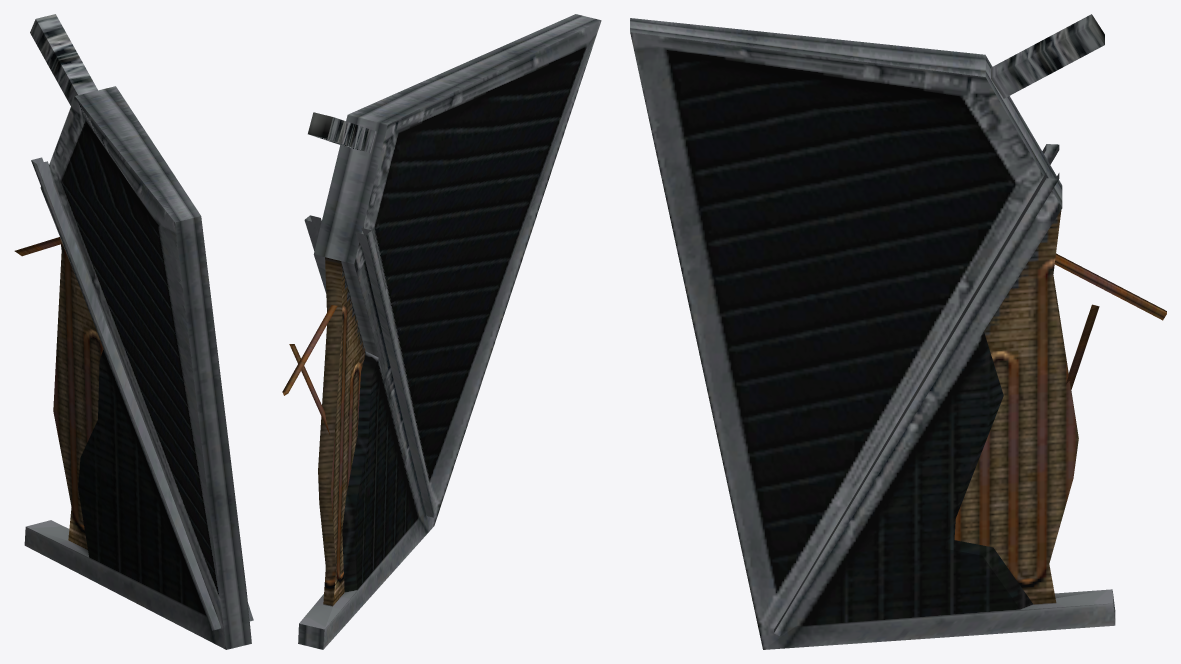
Rendered from tie_fighter_debris_c_l1.fbx.
3 views of the same model, side by side, from view 1: azimuth 30°, elevation 25°; view 2: azimuth 150°, elevation 25°; view 3: azimuth 270°, elevation 25° (orthographic). The views are drawn at different scales.
Visible parts, largest first — view 1: mesh_node; view 2: mesh_node; view 3: mesh_node.
Part boxes in pixels (x1,y1,x2,y2): mesh_node: (14, 14, 253, 649); mesh_node: (282, 14, 601, 649); mesh_node: (630, 14, 1166, 649).
Bounding box in the file's own units: 1.41 × 5.03 × 4.09.
Materials: 1 (1 with a texture image).
